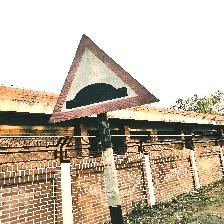Speed-breaker: (48, 34, 160, 123)
